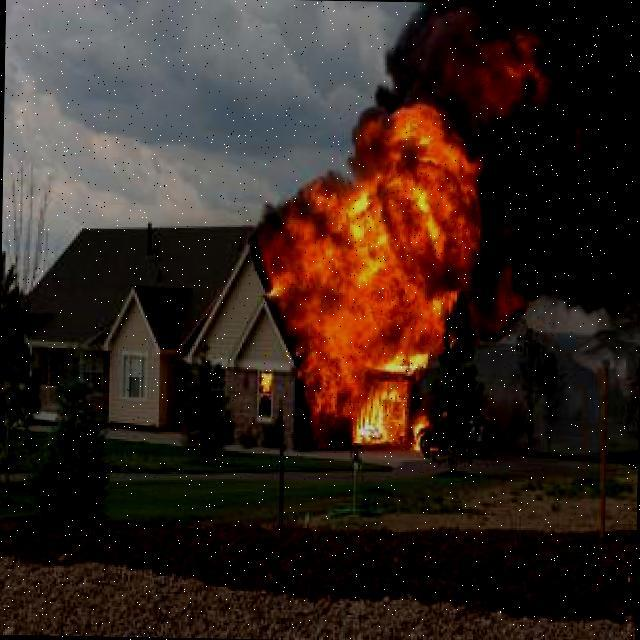Fire: (293, 128, 460, 423)
